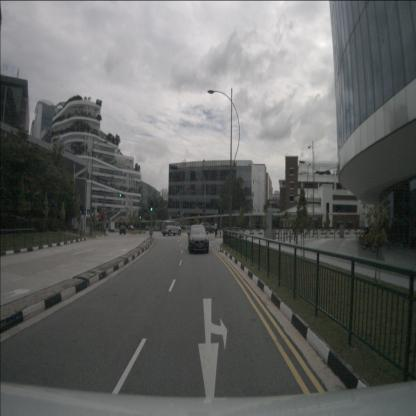human-pedestrian-adult: (214, 222, 218, 238)
vehicle-car: (187, 224, 209, 254), (161, 220, 182, 237), (198, 221, 215, 234), (119, 225, 126, 235), (127, 223, 134, 230)
vehicle-truck: (108, 221, 115, 233)
